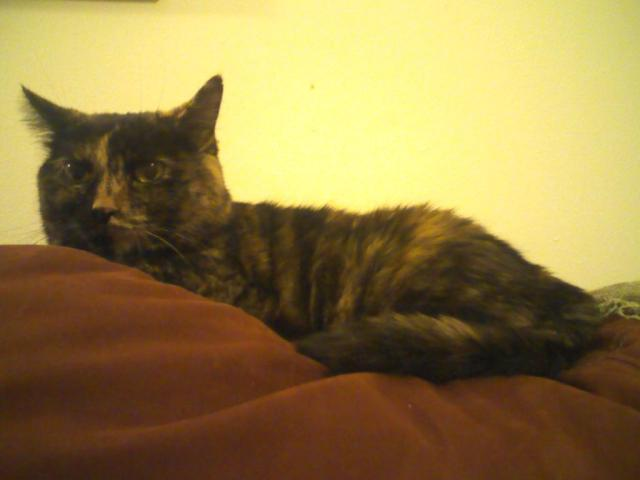Cat: (13, 68, 608, 378)
